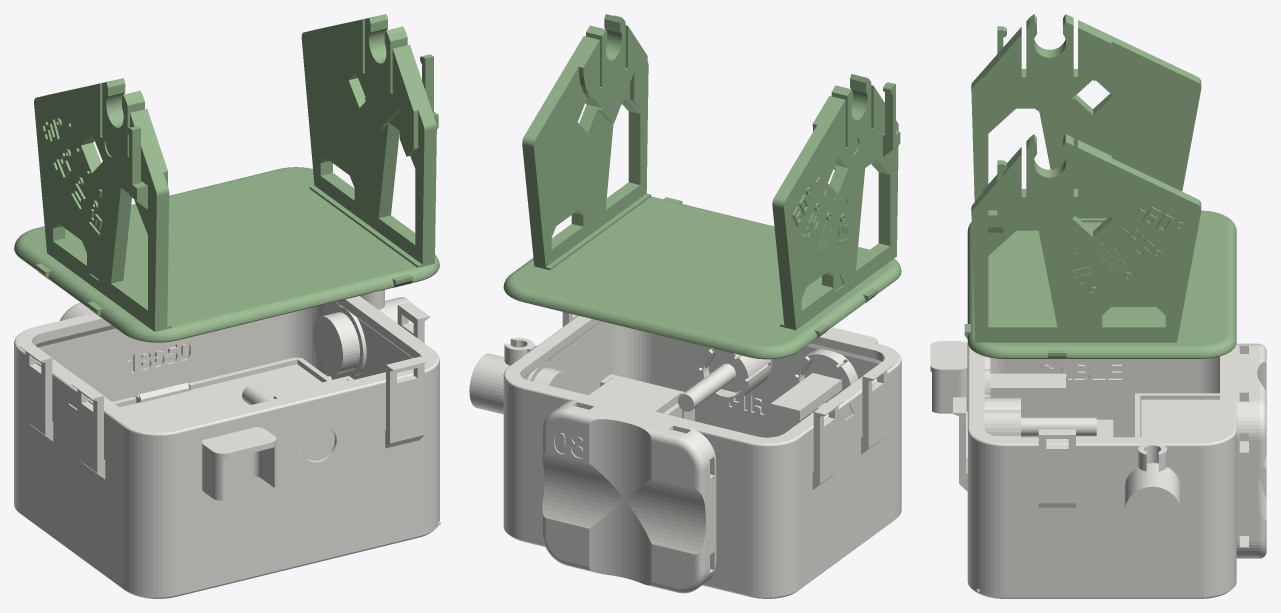
File: o12_outdoor_lid.glb
The picture shows the model from 3 angles, left to right: view 1: azimuth 30°, elevation 25°; view 2: azimuth 150°, elevation 25°; view 3: azimuth 270°, elevation 25°; orthographic projection. The views are drawn at different scales.
Visible parts, largest first — view 1: 08_outdoor_case, 09_outdoor_lid, 18650_+_holder, PG7_gland, PIR_AM312; view 2: 08_outdoor_case, 09_outdoor_lid, INMP441_(outdoor), PG7_gland, ESP32-C3_SuperMini, PIR_AM312; view 3: 09_outdoor_lid, 08_outdoor_case, PG7_gland, 18650_+_holder, INMP441_(outdoor), PIR_AM312.
Part boxes in pixels (<box>): 08_outdoor_case: <box>14,290,440,598</box>; 09_outdoor_lid: <box>14,14,439,342</box>; 18650_+_holder: <box>120,364,321,426</box>; PG7_gland: <box>313,297,413,374</box>; PIR_AM312: <box>242,384,334,460</box>; 08_outdoor_case: <box>503,312,901,598</box>; 09_outdoor_lid: <box>503,14,901,359</box>; INMP441_(outdoor): <box>770,359,846,420</box>; PG7_gland: <box>469,353,571,414</box>; ESP32-C3_SuperMini: <box>589,376,680,413</box>; PIR_AM312: <box>678,353,744,411</box>; 09_outdoor_lid: <box>964,14,1236,358</box>; 08_outdoor_case: <box>930,341,1266,598</box>; PG7_gland: <box>1124,463,1180,537</box>; 18650_+_holder: <box>1141,399,1219,437</box>; INMP441_(outdoor): <box>990,373,1065,397</box>; PIR_AM312: <box>1021,417,1096,436</box>.
Size of the model in its own units: 0.109 by 0.1332 by 0.09.
